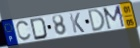8: (52, 15, 67, 38)
C: (15, 20, 32, 42)
D: (87, 8, 107, 33), (29, 16, 49, 41)
K: (68, 12, 86, 34)
M: (102, 5, 127, 32)
